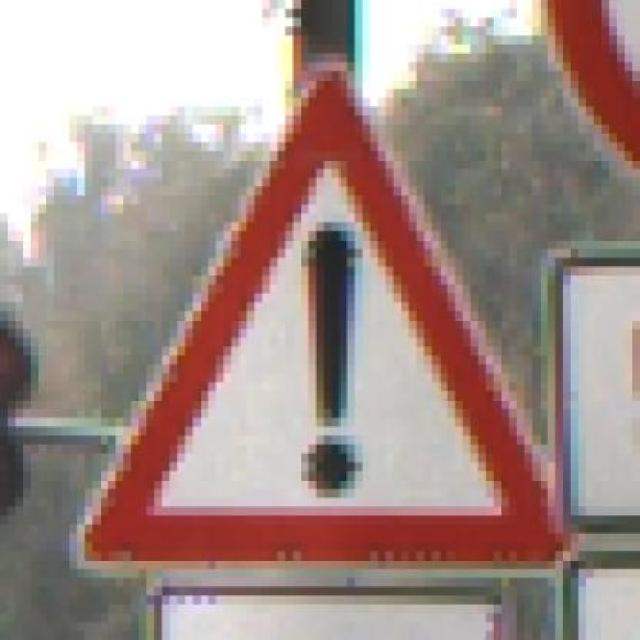Attention Please-: (46, 68, 586, 583)
